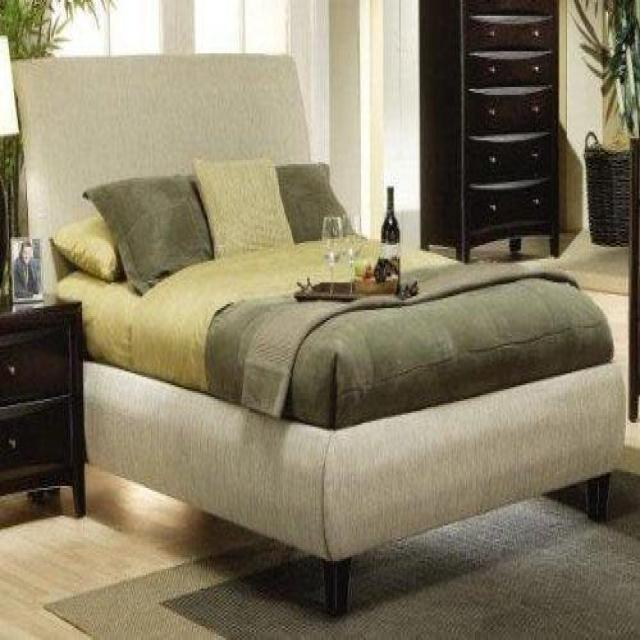bed: (11, 52, 620, 623)
